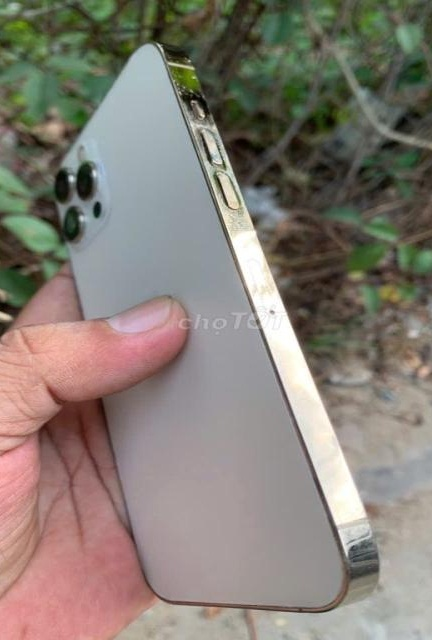scratch: (166, 58, 246, 190), (345, 503, 385, 580)
